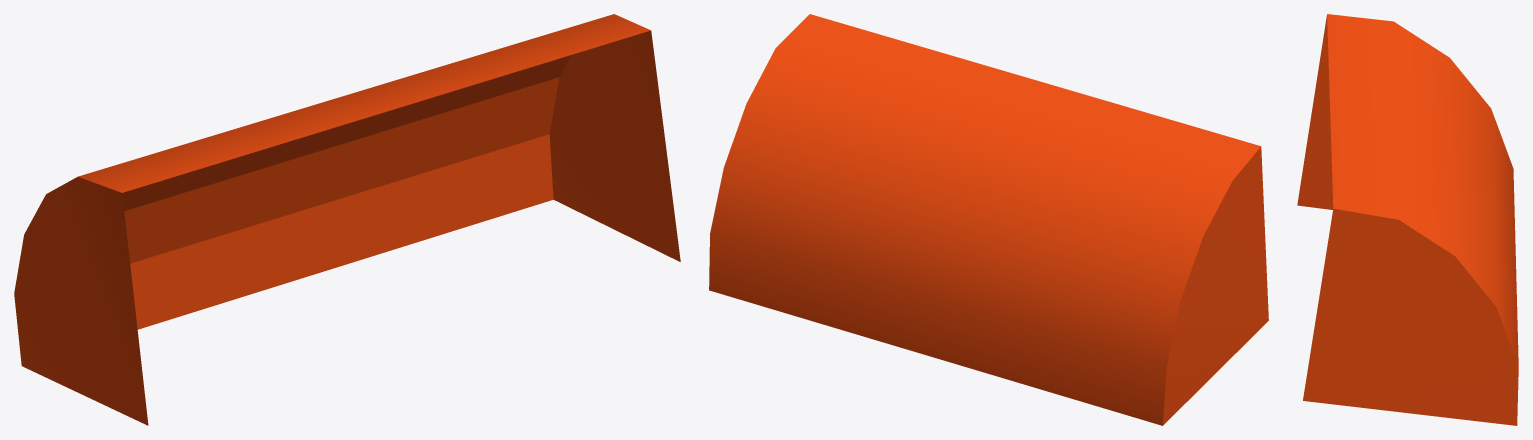
File: Tanque1.fbx
The picture shows the model from 3 angles, left to right: view 1: azimuth 30°, elevation 25°; view 2: azimuth 150°, elevation 25°; view 3: azimuth 270°, elevation 25°; orthographic projection. The views are drawn at different scales.
Parts seen in each view (by area): view 1: Tanque1; view 2: Tanque1; view 3: Tanque1.
Part boxes in pixels (left/top/right/bottom): Tanque1: left=14, top=14, right=680, bottom=425; Tanque1: left=709, top=14, right=1268, bottom=425; Tanque1: left=1297, top=14, right=1518, bottom=425.
Size of the model in its own units: 852 by 422 by 352.
